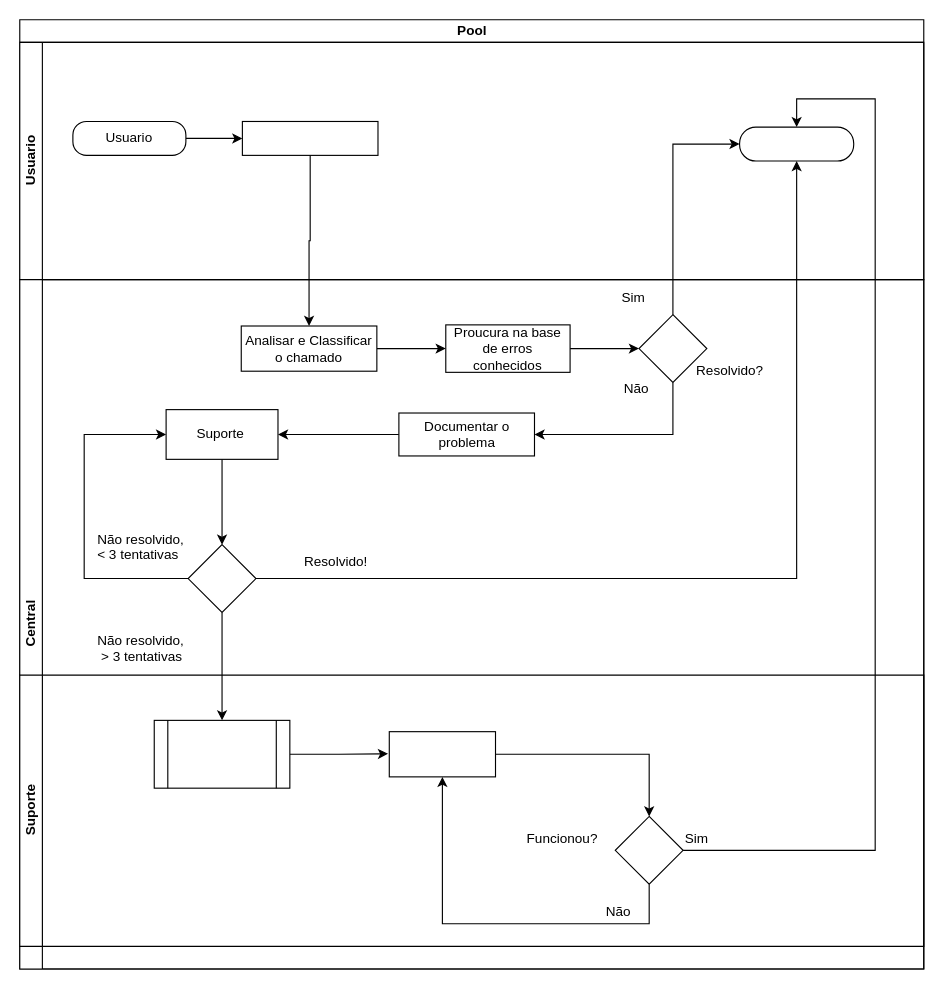
This 944x989 diagram has some shape labels left out. The box of each missing label's shape, as (x1, y1, x2, y2) in pixels:
Abre um chamado: (241, 120, 378, 155)
Faz a manutenção: (388, 731, 496, 777)
OK!: (738, 126, 854, 161)
Suporte especializado: (153, 719, 290, 788)
